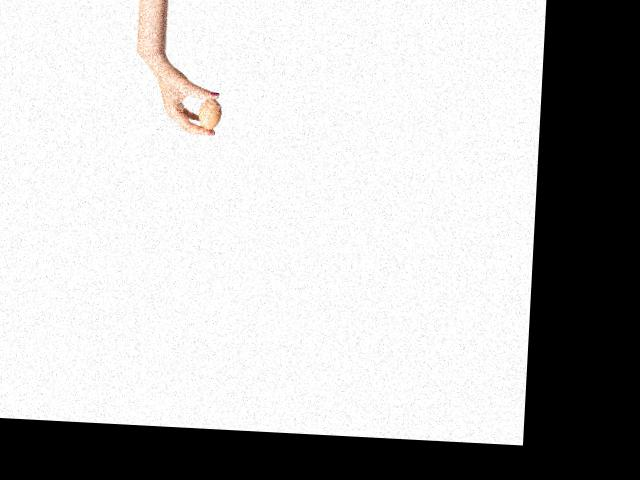egg: (198, 97, 220, 129)
